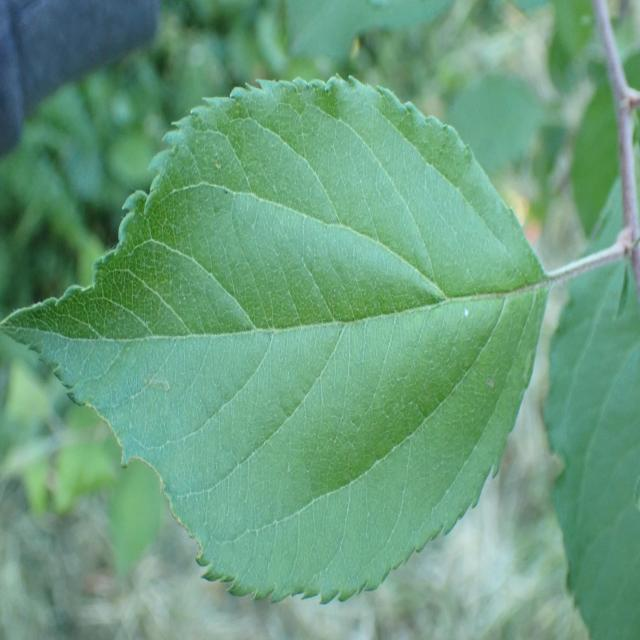healthy: (2, 73, 550, 608)
